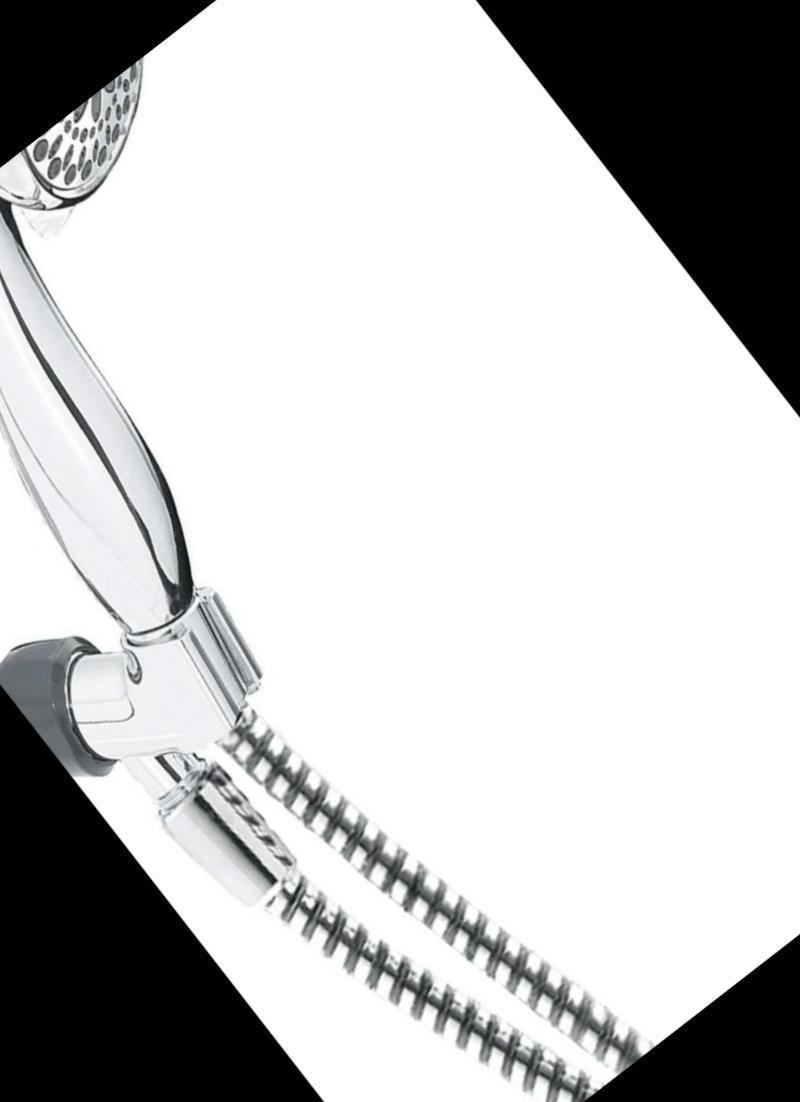Ducha: (0, 17, 800, 1102)
